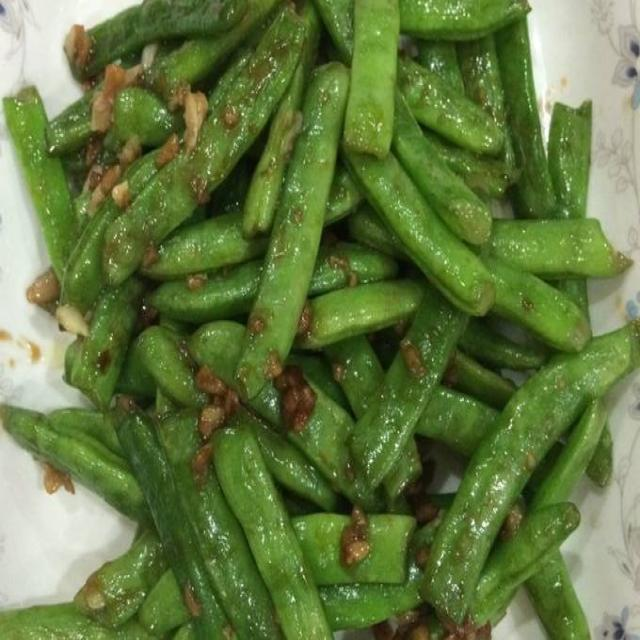dau que: (0, 0, 639, 639)
